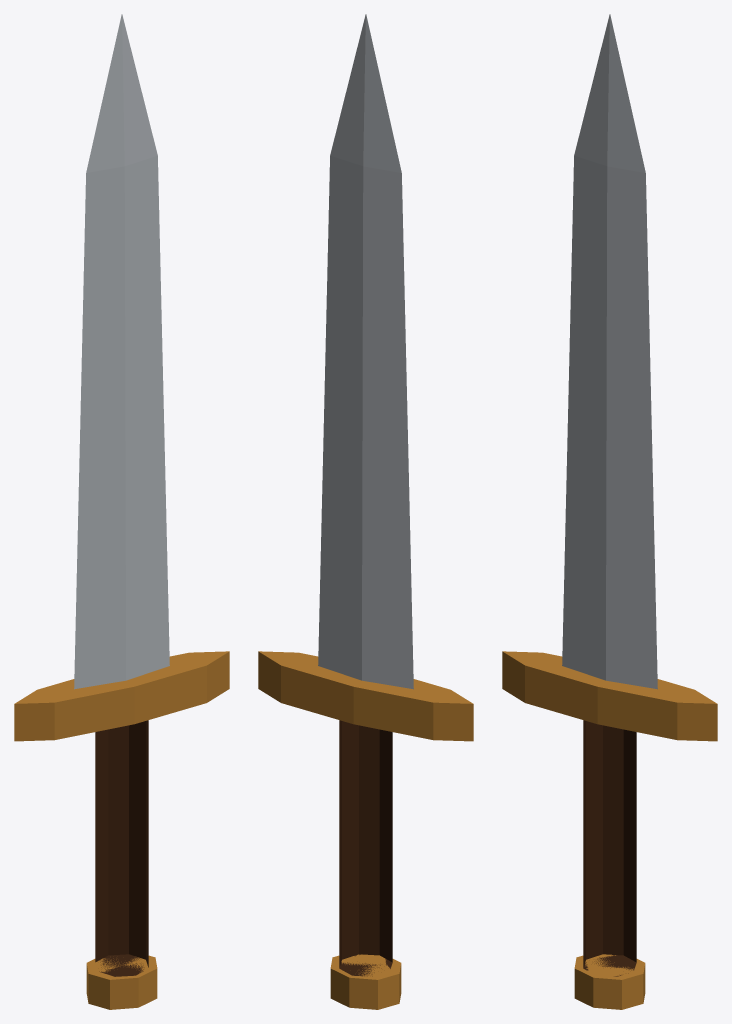
Rendered from mm8_m424_dagger.glb.
3 renders of one model, left to right at view 1: azimuth 30°, elevation 25°; view 2: azimuth 150°, elevation 25°; view 3: azimuth 330°, elevation 25°, orthographic.
Visible parts, largest first — view 1: Dagger; view 2: Dagger; view 3: Dagger.
Boxes of the visible parts, x1,y1,x2,y2 form: Dagger: (14,14,229,1009); Dagger: (258,14,473,1009); Dagger: (502,14,717,1009).
Bounding box in the file's own units: 0.09 × 0.392 × 0.024.
Materials: 1 (1 with a texture image).
